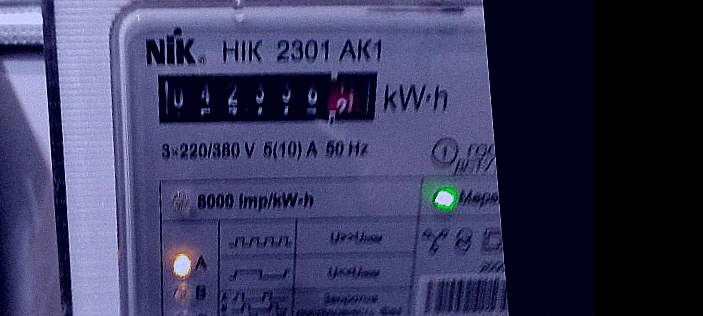0: (169, 80, 185, 110)
2: (221, 77, 241, 106)
3: (248, 75, 266, 105), (277, 74, 293, 103)
4: (195, 79, 213, 107)
6: (303, 78, 320, 106)
screen: (143, 46, 389, 147)
